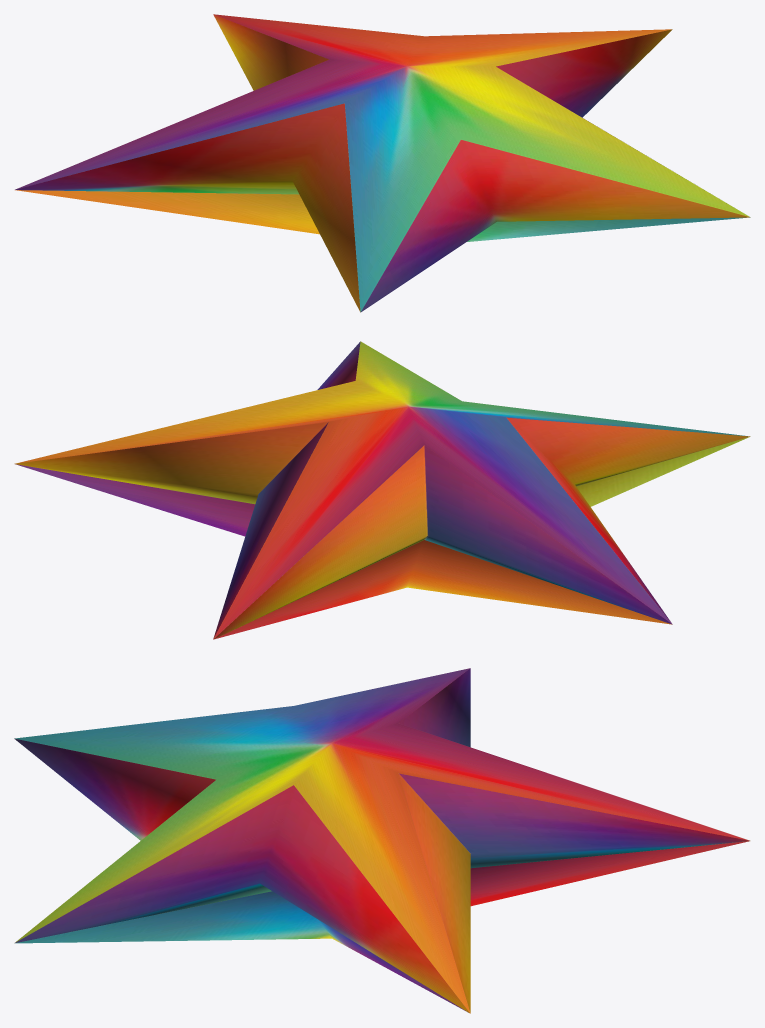
Rendered from PlayerStar.FBX.
The picture shows the model from 3 angles, top to bottom: view 1: azimuth 30°, elevation 25°; view 2: azimuth 150°, elevation 25°; view 3: azimuth 270°, elevation 25°; orthographic projection. The views are drawn at different scales.
Visible parts, largest first — view 1: Box001; view 2: Box001; view 3: Box001.
Boxes of the visible parts, box(x1,y1,x2,y2) form: Box001: box(15, 14, 750, 312); Box001: box(14, 341, 750, 639); Box001: box(14, 668, 750, 1013).
Bounding box in the file's own units: 2126 × 1915 × 558.
1 material, 1 textured.
